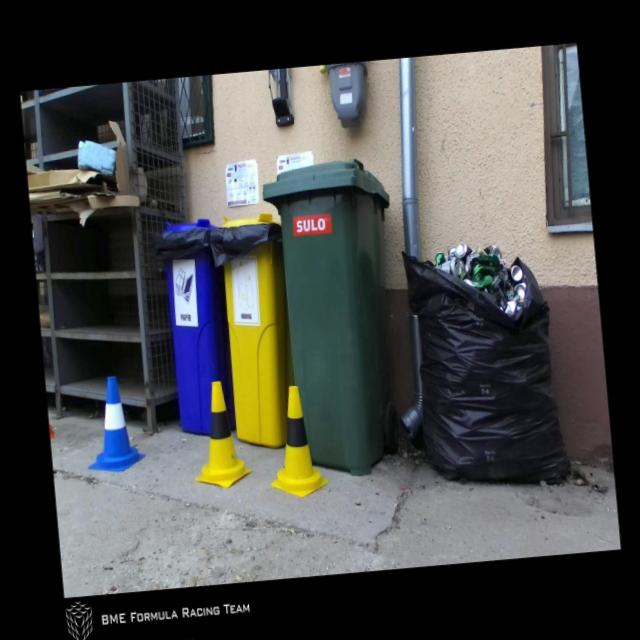blue_cone: (80, 374, 146, 474)
yellow_cone: (262, 383, 330, 499), (188, 380, 252, 490)
